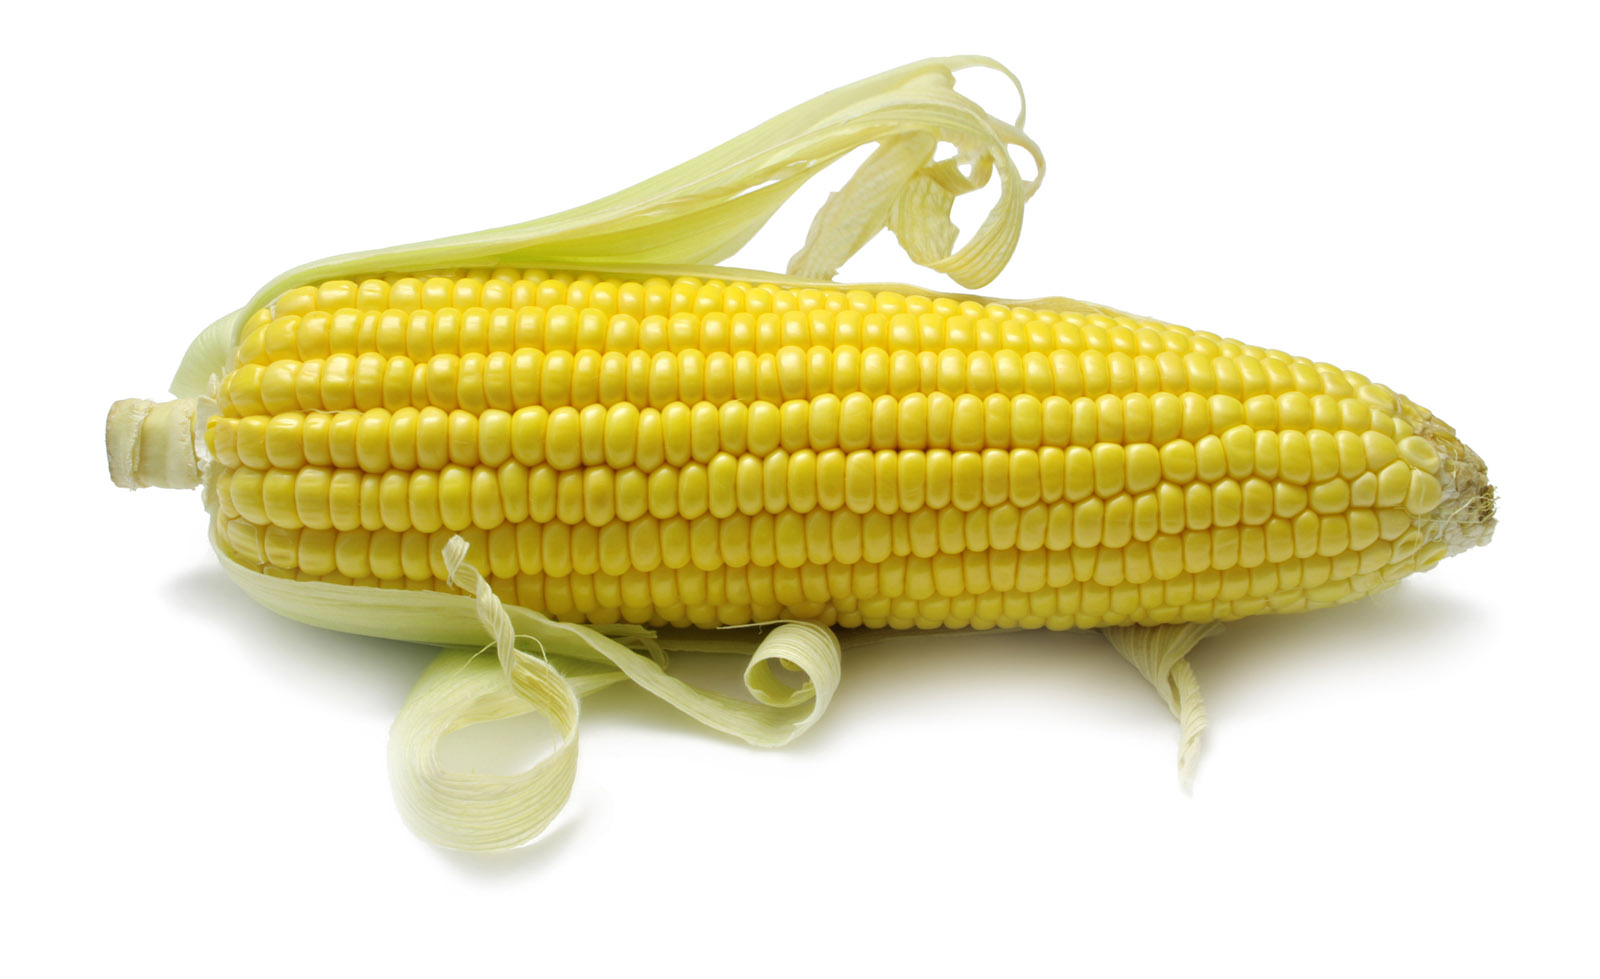corn: (103, 174, 1515, 677)
